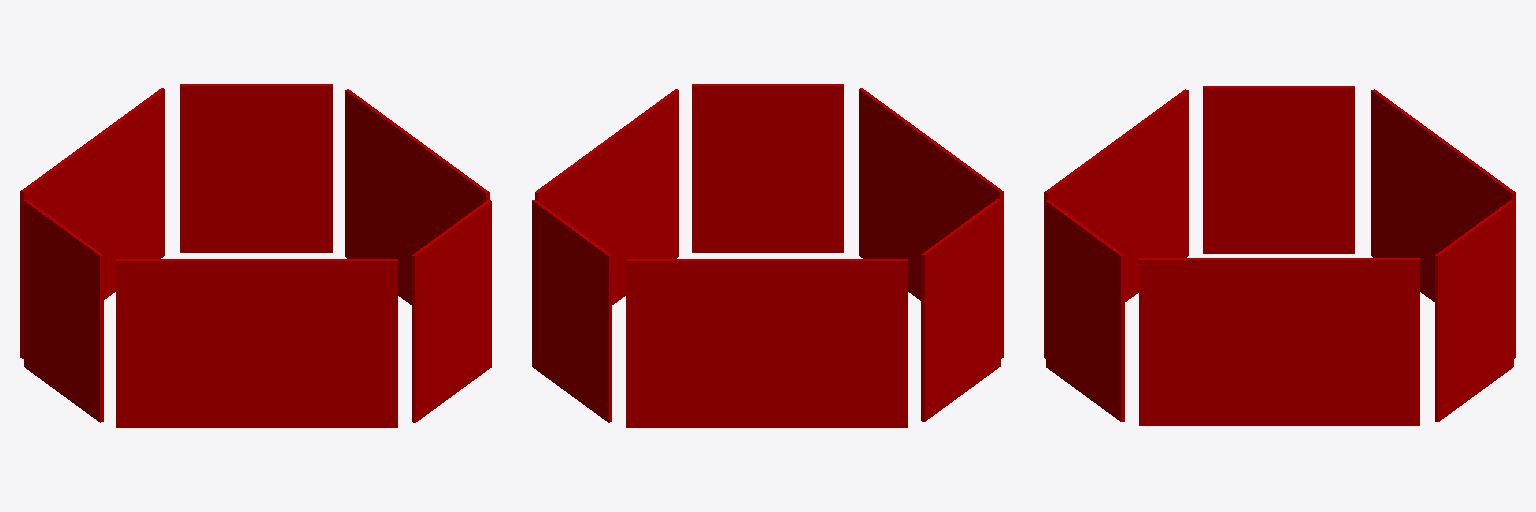
The robot description file, URDF, robot "omnirobot_v3":
<?xml version="1.0" encoding="utf-8"?>
<!-- This URDF was automatically created by SolidWorks to URDF Exporter! Originally created by [author] ([email redacted]) 
     Commit Version: 1.5.1-0-g916b5db  Build Version: 1.5.7152.31018
     For more information, please see http://wiki.ros.org/sw_urdf_exporter -->
<robot
  name="omnirobot_v3">
  <!--colours defined for convenience-->
  <material name="black">
    <color rgba="0.0 0.0 0.0 1.0"/>
  </material>
  <material name="blue">
    <color rgba="0.0 0.0 0.8 1.0"/>
  </material>
  <material name="green">
    <color rgba="0.0 0.8 0.0 1.0"/>
  </material>
  <material name="grey">
    <color rgba="0.2 0.2 0.2 1.0"/>
  </material>
  <material name="orange">
    <color rgba="1.0 0.4235294117647059 0.0392156862745098 1.0"/>
  </material>
  <material name="brown">
    <color rgba="0.8705882352941177 0.8117647058823529 0.7647058823529411 1.0"/>
  </material>
  <material name="red">
    <color rgba="0.8 0.0 0.0 1.0"/>
  </material>
  <material name="white">
    <color rgba="1.0 1.0 1.0 1.0"/>
  </material>
  <!--colours defined for convenience-->
  <link
    name="base_link">
    <inertial>
      <origin
        xyz="0.012151 -0.012869 0.20"
        rpy="0 0 0" /> <!--This is the centre of mass xyz="0.012151 -0.012869 0.37433" -->
      <mass
        value="25.164" /> <!--25.164-->
      <inertia
        ixx="0.15544"
        ixy="-1.3379E-05"
        ixz="4.946E-05"
        iyy="0.15382"
        iyz="-3.2387E-05"
        izz="0.16354" />
    </inertial>
    <visual>
      <origin
        xyz="0 0 0"
        rpy="0 0 0" />
      <geometry>
        <mesh
          filename="package://omnirobot_v3/meshes/base_link.STL" />
      </geometry>
      <material
        name="">
        <color
          rgba="0.62745 0.62745 0.62745 1" />
      </material>
    </visual>
    <collision>
      <origin
        xyz="0 0 0"
        rpy="0 0 0" />
      <geometry>
        <mesh
          filename="package://omnirobot_v3/meshes/base_link.STL" />
      </geometry>
    </collision>
  </link>
  <!--############# Here onwards is added section ##############-->
  <link
    name="camera"> <!--virtual link-->
    <inertial>
      <origin
        xyz="-0.018786 -0.00025995 0.0091985"
        rpy="0 0 0" />
      <mass
        value="0.16603" />
      <inertia
        ixx="0.0004097"
        ixy="5.348E-07"
        ixz="-3.83E-08"
        iyy="2.5534E-05"
        iyz="1.2789E-08"
        izz="0.00041805" />
    </inertial>
    <!--visual>
      <origin
        xyz="0 0 0"
        rpy="0 0 0" />
      <geometry>
        <mesh
          filename="package://omnirobot/meshes/camera.STL" />
      </geometry>
      <material
        name="">
        <color
          rgba="0.792156862745098 0.819607843137255 0.933333333333333 1" />
      </material>
    </visual>
    <collision>
      <origin
        xyz="0 0 0"
        rpy="0 0 0" />
      <geometry>
        <mesh
          filename="package://omnirobot/meshes/camera.STL" />
      </geometry>
    </collision-->
  </link>
  <joint
    name="camera_to_base_link"
    type="fixed">
    <origin
      xyz="0.11046 -0.004146 0.78309"
      rpy="0 0 0" />
    <parent
      link="base_link" />
    <child
      link="camera" />
    <axis
      xyz="0 0 0" />
  </joint>
  <link
    name="laser_1">
    <inertial>
      <origin
        xyz="-6.245E-07 -0.023496 -0.012259"
        rpy="0 0 0" />
      <mass
        value="0.1215" />
      <inertia
        ixx="0.00010976"
        ixy="1.2854E-07"
        ixz="2.2888E-07"
        iyy="0.00010738"
        iyz="9.393E-07"
        izz="6.0425E-05" />
    </inertial>
    <!--visual>
      <origin
        xyz="0 0 0"
        rpy="0 0 0" />
      <geometry>
        <mesh
          filename="package://omnirobot/meshes/laser_1.STL" />
      </geometry>
      <material
        name="">
        <color
          rgba="0.627450980392157 0.627450980392157 0.627450980392157 1" />
      </material>
    </visual>
    <collision>
      <origin
        xyz="0 0 0"
        rpy="0 0 0" />
      <geometry>
        <mesh
          filename="package://omnirobot/meshes/laser_1.STL" />
      </geometry>
    </collision-->
  </link>
  <joint
    name="laser_1_to_base_link"
    type="fixed">
    <origin
      xyz="0.052032 0.1139 0.6588" 
      rpy="0 0 1.57079" /> <!--calibrated values from original: xyz="0.081032 0.1439 0.6388" 
      rpy="0 0 1.57079" />-->
    <parent
      link="base_link" />
    <child
      link="laser_1" />
    <axis
      xyz="0 0 0" />
  </joint>
  <link
    name="laser_2">
    <inertial>
      <origin
        xyz="6.2453E-07 0.023496 -0.012259"
        rpy="0 0 0" />
      <mass
        value="0.1215" />
      <inertia
        ixx="0.00010976"
        ixy="1.2854E-07"
        ixz="-2.2888E-07"
        iyy="0.00010738"
        iyz="-9.393E-07"
        izz="6.0425E-05" />
    </inertial>
    <!--visual>
      <origin
        xyz="0 0 0"
        rpy="0 0 0" />
      <geometry>
        <mesh
          filename="package://omnirobot/meshes/laser_2.STL" />
      </geometry>
      <material
        name="">
        <color
          rgba="0.627450980392157 0.627450980392157 0.627450980392157 1" />
      </material>
    </visual>
    <collision>
      <origin
        xyz="0 0 0"
        rpy="0 0 0" />
      <geometry>
        <mesh
          filename="package://omnirobot/meshes/laser_2.STL" />
      </geometry>
    </collision-->
  </link>
  <joint
    name="laser_2_to_base_link"
    type="fixed">
    <origin
      xyz="0.046032 -0.1322 0.6588"
      rpy="0 0 -1.57079" /> <!--calibrated values from original: xyz="0.081032 -0.1522 0.6388"-->
    <parent
      link="base_link" />
    <child
      link="laser_2" />
    <axis
      xyz="0 0 0" />
  </joint>
  <link
    name="front_plate">
    <inertial>
      <origin
        xyz="0.0095337 1.1345E-15 0.0034793"
        rpy="0 0 0" />
      <mass
        value="0.47182" />
      <inertia
        ixx="0.0065826"
        ixy="3.3798E-17"
        ixz="-7.3583E-08"
        iyy="0.0019654"
        iyz="-3.9219E-15"
        izz="0.0046194" />
    </inertial>
    <visual>
      <origin
        xyz="0 0 0"
        rpy="0 0 0" />
      <geometry>
        <!--mesh
          filename="package://omnirobot/meshes/front_plate.STL" /-->
        <box size="0.005 0.345 0.225"/>
      </geometry>
      <material
        name="red">
        <!--color
          rgba="1 1 1 0.3" /-->
      </material>
    </visual>
    <collision>
      <origin
        xyz="0 0 0"
        rpy="0 0 0" />
      <geometry>
        <!--mesh
          filename="package://omnirobot/meshes/front_plate.STL" /-->
        <box size="0.005 0.345 0.225"/>
      </geometry>
    </collision>
  </link>
  <joint
    name="front_plate_to_base_link"
    type="fixed">
    <origin
      xyz="0.22587 -0.012539 0.49700"
      rpy="0 0 0" /> <!--calibrated values from original: xyz="0.23247 -0.003539 0.46991"--><!--Values before offset for force_torque sensing in pybullet: xyz="0.22487 -0.012539 0.49700"-->
    <parent
      link="base_link" />
    <child
      link="front_plate" />
    <axis
      xyz="0 0 0" />
  </joint>
  <link
    name="back_plate">
    <inertial>
      <origin
        xyz="-0.010977 6.5356E-16 0.021201"
        rpy="0 0 0" />
      <mass
        value="0.26343" />
      <inertia
        ixx="0.0017823"
        ixy="-8.3769E-16"
        ixz="6.4463E-16"
        iyy="0.0010598"
        iyz="-1.3548E-15"
        izz="0.00072461" />
    </inertial>
    <visual>
      <origin
        xyz="0 0 0"
        rpy="0 0 0" />
      <geometry>
        <!--mesh
          filename="package://omnirobot/meshes/back_plate.STL" /-->
        <box size="0.005 0.186 0.225"/>
      </geometry>
      <material
        name="red">
        <!--color
          rgba="1 1 1 0.3" /-->
      </material>
    </visual>
    <collision>
      <origin
        xyz="0 0 0"
        rpy="0 0 0" />
      <geometry>
        <!--mesh
          filename="package://omnirobot/meshes/back_plate.STL" /-->
        <box size="0.005 0.186 0.225"/>
      </geometry>
    </collision>
  </link>
  <joint
    name="back_plate_to_base_link"
    type="fixed"> <!---calibrated x value: 0.27259-->
    <origin
      xyz="-0.27359 -0.013250 0.49700"
      rpy="0 0 0" /> <!--calibrated values from original: xyz="-0.24359 -0.003539 0.45137"--><!--Values before offset for force_torque sensing in pybullet: xyz="-0.27259 -0.013250 0.49700"-->
    <parent
      link="base_link" />
    <child
      link="back_plate" />
    <axis
      xyz="0 0 0" />
  </joint>
  <link
    name="front_left_plate">
    <inertial>
      <origin
        xyz="0.0054884 0.0095062 0.021201"
        rpy="0 0 0" />
      <mass
        value="0.26343" />
      <inertia
        ixx="0.0012404"
        ixy="0.00031287"
        ixz="-1.3516E-15"
        iyy="0.0016017"
        iyz="-1.9871E-16"
        izz="0.00072461" />
    </inertial>
    <visual>
      <origin
        xyz="0 0 0"
        rpy="0 0 0" />
      <geometry>
        <!--mesh
          filename="package://omnirobot/meshes/front_left_plate.STL" /-->
        <box size="0.005 0.186 0.225"/>
      </geometry>
      <material
        name="red">
        <!--color
          rgba="1 1 1 0.3" /-->
      </material>
    </visual>
    <collision>
      <origin
        xyz="0 0 0"
        rpy="0 0 0" />
      <geometry>
        <!--mesh
          filename="package://omnirobot/meshes/front_left_plate.STL" /-->
        <box size="0.005 0.186 0.225"/>
      </geometry>
    </collision>
  </link>
  <joint
    name="front_left_plate_to_base_link"
    type="fixed">
    <origin
      xyz="0.13693 0.2264001 0.49700"
      rpy="0 0 1.04719" /> <!--calibrated values from original: xyz="0.14543 0.22107 0.45137" rpy='"0 0 0"--><!--Values before offset for force_torque sensing in pybullet: xyz="0.13443 0.22207 0.49700"-->
    <parent
      link="base_link" />
    <child
      link="front_left_plate" />
    <axis
      xyz="0 0 0" />
  </joint>
  <link
    name="front_right_plate">
    <inertial>
      <origin
        xyz="0.0054884 -0.0094962 0.021201"
        rpy="0 0 0" />
      <mass
        value="0.26343" />
      <inertia
        ixx="0.0012404"
        ixy="-0.00031287"
        ixz="1.1957E-15"
        iyy="0.0016017"
        iyz="1.2014E-15"
        izz="0.00072461" />
    </inertial>
    <visual>
      <origin
        xyz="0 0 0"
        rpy="0 0 0" />
      <geometry>
        <!--mesh
          filename="package://omnirobot/meshes/front_right_plate.STL" /-->
        <box size="0.005 0.186 0.225"/>
      </geometry>
      <material
        name="red">
        <!--color
          rgba="1 1 1 0.3" /-->
      </material>
    </visual>
    <collision>
      <origin
        xyz="0 0 0"
        rpy="0 0 0" />
      <geometry>
        <!--mesh
          filename="package://omnirobot/meshes/front_right_plate.STL" /-->
        <box size="0.005 0.186 0.225"/>
      </geometry>
    </collision>
  </link>
  <joint
    name="front_right_plate_to_base_link"
    type="fixed">
    <origin
      xyz="0.13643 -0.2514701 0.49700"
      rpy="0 0 -1.04719" /> <!--calibrated values from original: xyz="0.14543 -0.22814 0.45137" rpy='"0 0 0"--><!--Values before offset for force_torque sensing in pybullet: xyz="0.13393 -0.24714 0.49700"-->
    <parent
      link="base_link" />
    <child
      link="front_right_plate" />
    <axis
      xyz="0 0 0" />
  </joint>
  <link
    name="back_left_plate">
    <inertial>
      <origin
        xyz="-0.0047668 0.0082563 0.0034797"
        rpy="0 0 0" />
      <mass
        value="0.47182" />
      <inertia
        ixx="0.0031197"
        ixy="-0.0019993"
        ixz="3.0353E-15"
        iyy="0.0054283"
        iyz="2.666E-15"
        izz="0.0046194" />
    </inertial>
    <visual>
      <origin
        xyz="0 0 0"
        rpy="0 0 0" />
      <geometry>
        <!--mesh
          filename="package://omnirobot/meshes/back_left_plate.STL" /-->
        <box size="0.005 0.345 0.225"/>
      </geometry>
      <material
        name="red">
        <!--color
          rgba="1 1 1 0.3" /-->
      </material>
    </visual>
    <collision>
      <origin
        xyz="0 0 0"
        rpy="0 0 0" />
      <geometry>
        <!--mesh
          filename="package://omnirobot/meshes/back_left_plate.STL" /-->
        <box size="0.005 0.345 0.225"/>
      </geometry>
    </collision>
  </link>
  <joint
    name="back_left_plate_to_base_link"
    type="fixed">
    <origin
      xyz="-0.116098 0.1884701 0.49700"
      rpy="0 0 -1.04719" /> <!--calibrated values from original: xyz="-0.092598 0.18414 0.46991" rpy='"0 0 0"--><!--Values before offset for force_torque sensing in pybullet: xyz="-0.113598 0.18414 0.49700"-->
    <parent
      link="base_link" />
    <child
      link="back_left_plate" />
    <axis
      xyz="0 0 0" />
  </joint>
  <link
    name="back_right_plate">
    <inertial>
      <origin
        xyz="-0.0047668 -0.0082563 0.0034797"
        rpy="0 0 0" />
      <mass
        value="0.47182" />
      <inertia
        ixx="0.0031197"
        ixy="0.0019993"
        ixz="-3.5959E-15"
        iyy="0.0054283"
        iyz="1.5424E-15"
        izz="0.0046194" />
    </inertial>
    <visual>
      <origin
        xyz="0 0 0"
        rpy="0 0 0" />
      <geometry>
        <!--mesh
          filename="package://omnirobot/meshes/back_right_plate.STL" /-->
        <box size="0.005 0.345 0.225"/>
      </geometry>
      <material
        name="red">
        <!--color
          rgba="1 1 1 0.3" /-->
      </material>
    </visual>
    <collision>
      <origin
        xyz="0 0 0"
        rpy="0 0 0" />
      <geometry>
        <!--mesh
          filename="package://omnirobot/meshes/back_right_plate.STL" /-->
        <box size="0.005 0.345 0.225"/>
      </geometry>
    </collision>
  </link>
  <joint
    name="back_right_plate_to_base_link"
    type="fixed">
    <origin
      xyz="-0.116098 -0.2130501 0.49700"
      rpy="0 0 1.04719" /> <!--calibrated values from original: xyz="-0.092598 -0.19122 0.46991" rpy='"0 0 0"--><!--Values before offset for force_torque sensing in pybullet: xyz="-0.113598 -0.20872 0.49700"-->
    <parent
      link="base_link" />
    <child
      link="back_right_plate" />
    <axis
      xyz="0 0 0" />
  </joint>
<!--############# before here is added section ##############-->
<!--Not integrating the wheels as of now, as we can ignore the actual rotation of the wheels, but just based on /cmd_vel in simulation for now-->

</robot>

--- What the picture shows (computed from the rendered views, not written in the file) ---
The picture shows the robot from 3 angles, left to right: view 1: azimuth 30°, elevation 25°; view 2: azimuth 150°, elevation 25°; view 3: azimuth 270°, elevation 25°; orthographic projection.
Robot: omnirobot_v3 — 10 links, 9 joints (9 fixed); root link base_link; default pose: all joints at 0.
Links seen in each view (by area): view 1: back_right_plate, front_left_plate, back_left_plate, front_plate, front_right_plate, back_plate; view 2: back_left_plate, front_right_plate, back_right_plate, front_plate, back_plate, front_left_plate; view 3: front_plate, back_plate, back_left_plate, back_right_plate, front_right_plate, front_left_plate.
Boxes of the visible links, x1,y1,x2,y2 form: back_right_plate: (116, 259, 397, 427); front_left_plate: (180, 84, 332, 252); back_left_plate: (20, 88, 164, 358); front_plate: (345, 89, 489, 304); front_right_plate: (412, 200, 491, 422); back_plate: (24, 199, 103, 422); back_left_plate: (626, 259, 907, 427); front_right_plate: (692, 84, 843, 252); back_right_plate: (859, 88, 1003, 358); front_plate: (535, 89, 678, 304); back_plate: (921, 199, 1000, 421); front_left_plate: (532, 200, 611, 422); front_plate: (1139, 258, 1419, 425); back_plate: (1203, 86, 1354, 253); back_left_plate: (1371, 89, 1515, 358); back_right_plate: (1044, 89, 1188, 358); front_right_plate: (1046, 200, 1124, 421); front_left_plate: (1435, 200, 1513, 421).
Size in the robot's own frame: 0.5045 by 0.5784 by 0.225 metres.
0 mesh visuals loaded from 1 distinct referenced files (none loaded); not drawn: 1 (reference not matched to a file when rendering).